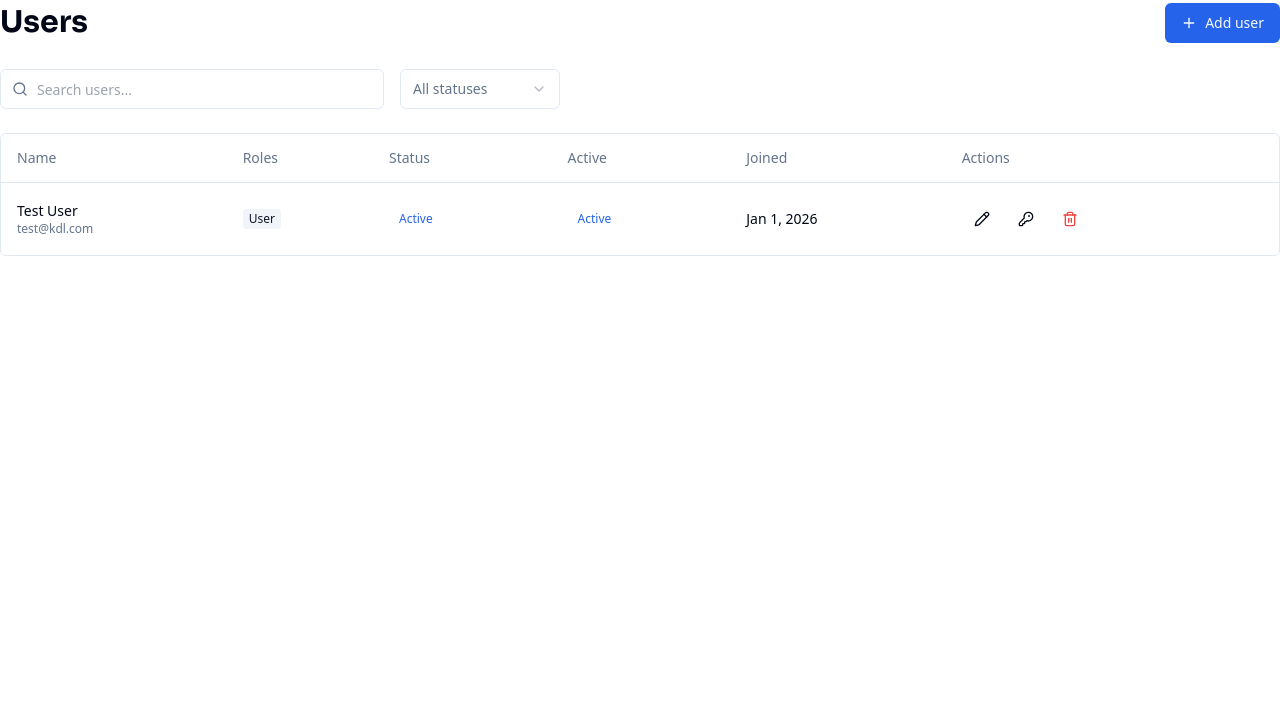
Test: UsersPage regression — SUPER_ADMIN role option gating (KDL-20 H4) › shows SUPER_ADMIN role option for super admin users
The width and height of the screenshot is (1280, 720).
Expected: the text "Test User" is shown, [17,200,78,220]
What coordinates should you click on to do the following:
click the button named "edit test user"
I would click on:
 (982, 218)
Its box is [962,198,1002,238].
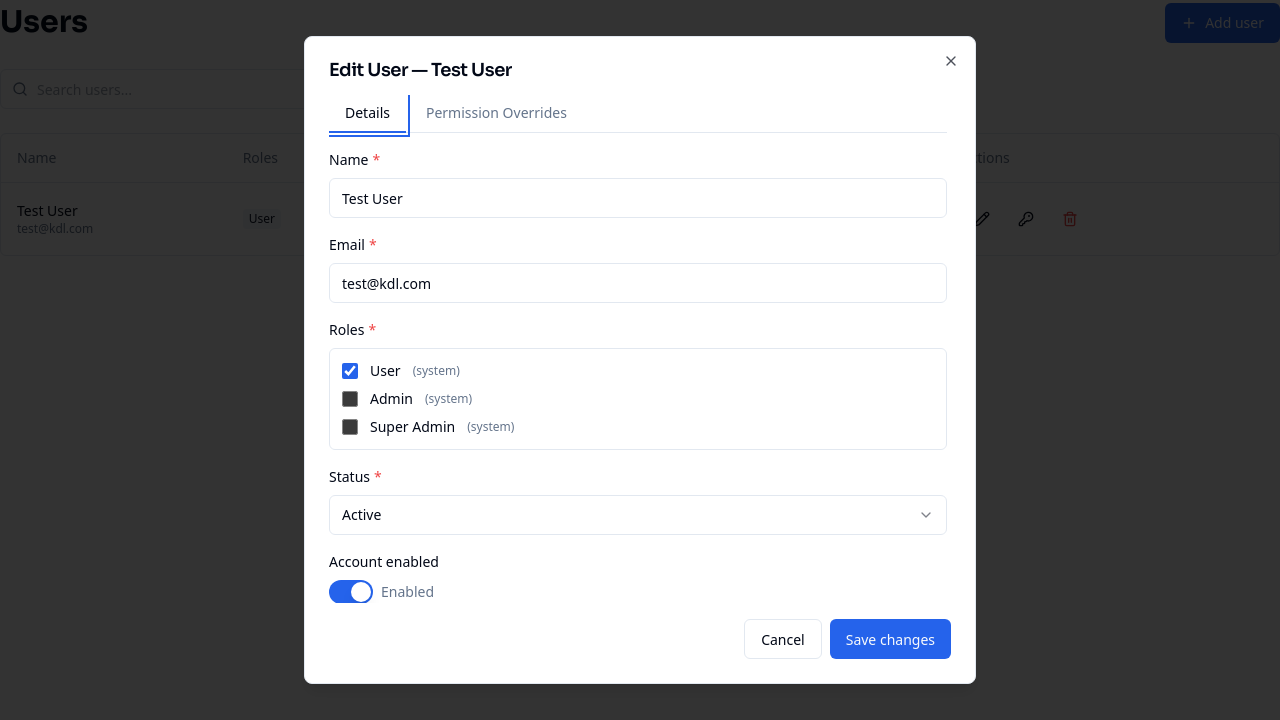
Expected: the dialog is shown, [304,36,976,684]
Expected: the text "Super Admin" is shown, [370,417,455,437]
